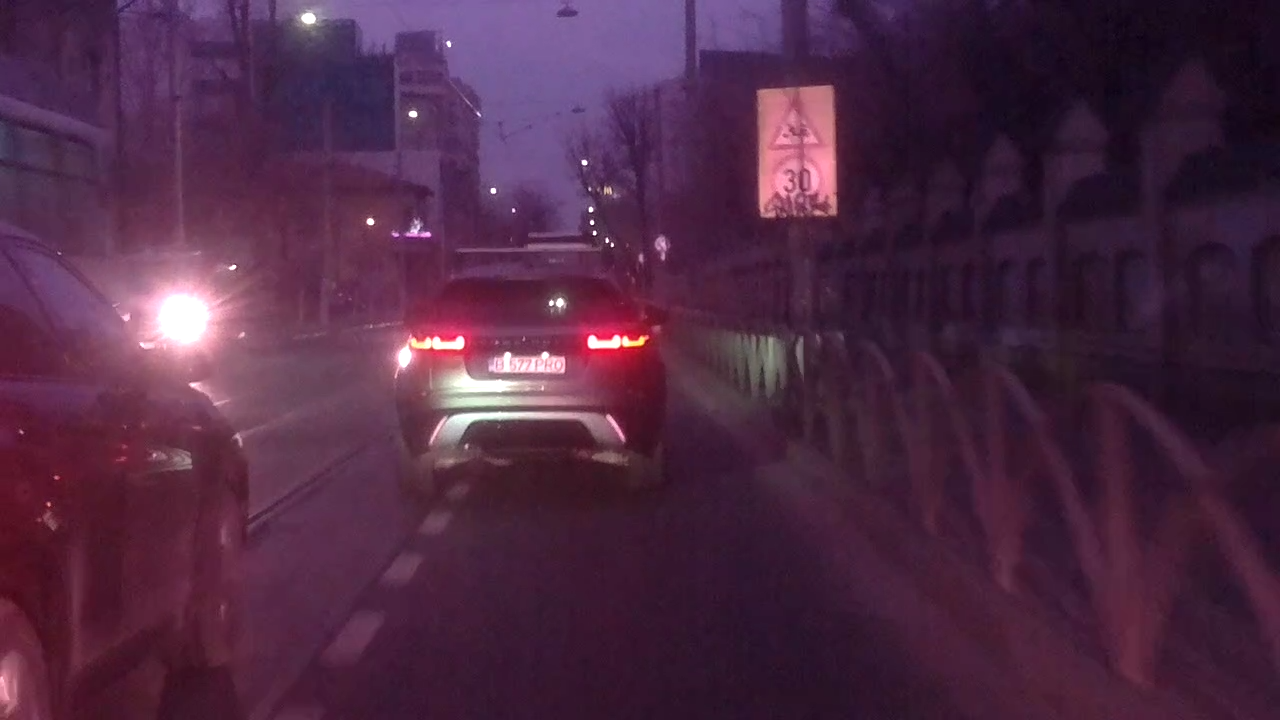license-plate: (483, 353, 568, 376)
